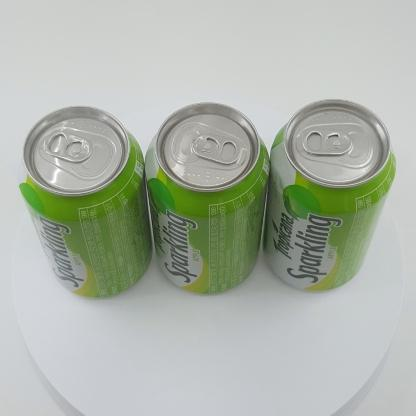-------------355ML: (17, 105, 153, 298), (261, 98, 396, 292), (145, 102, 270, 294)
